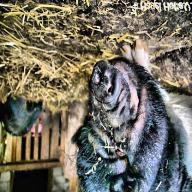boar: (58, 40, 191, 192), (2, 89, 44, 137)
